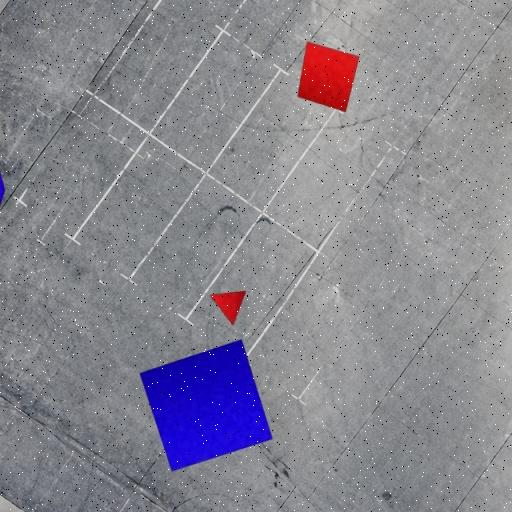BLUE_SQUARE: (138, 338, 274, 472)
RED_SQUARE: (297, 41, 360, 113)
